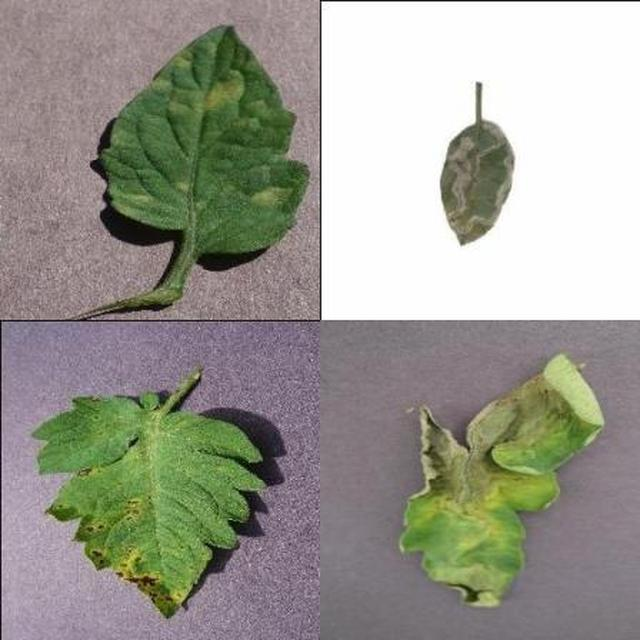Leaf Mold: (104, 181, 640, 640)
